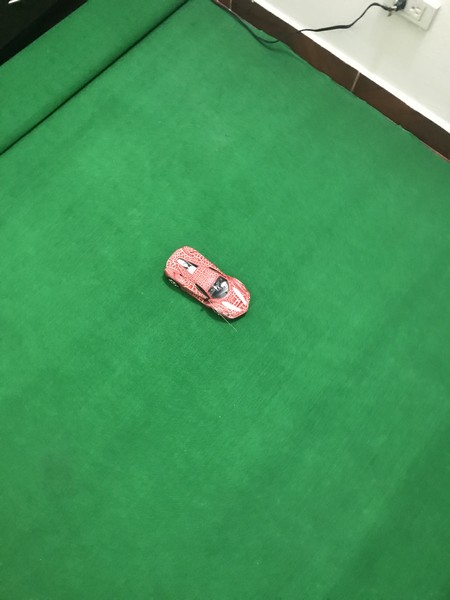RC: (162, 244, 254, 324)
